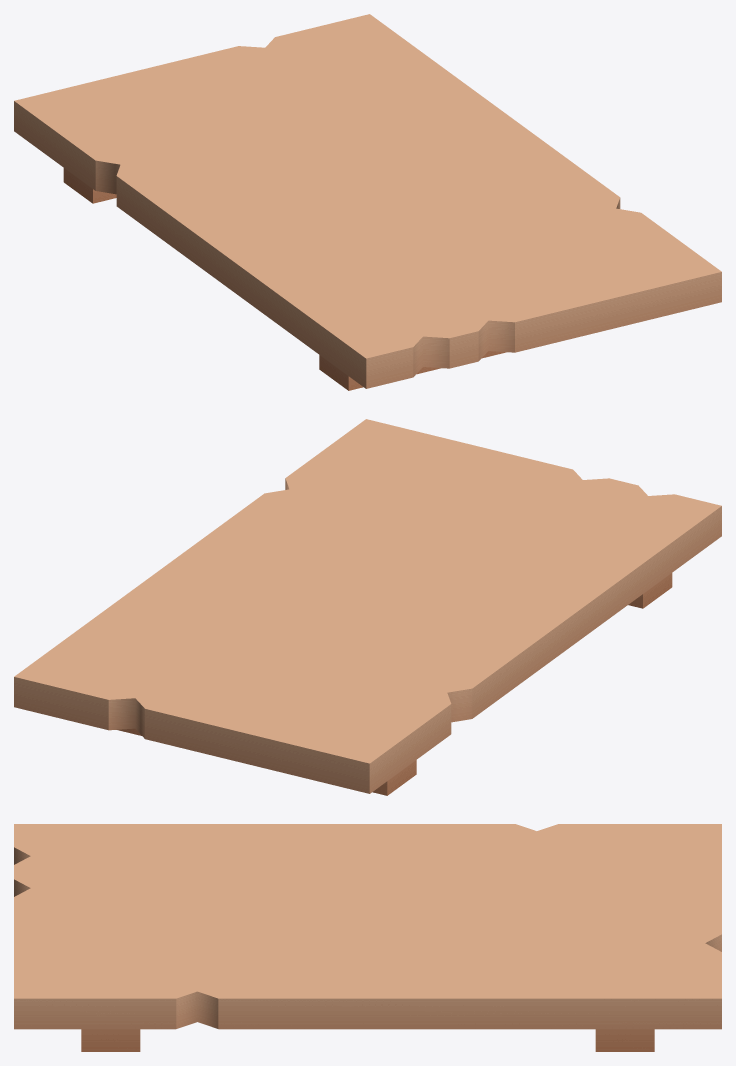
File: cutting-board-japanese.glb
3 views of the same model, one above another, from view 1: azimuth 30°, elevation 25°; view 2: azimuth 150°, elevation 25°; view 3: azimuth 270°, elevation 25° (orthographic).
Visible parts, largest first — view 1: cutting-board-japanese; view 2: cutting-board-japanese; view 3: cutting-board-japanese.
Boxes of the visible parts, left/top/right/bottom form: cutting-board-japanese: left=14, top=14, right=721, bottom=390; cutting-board-japanese: left=14, top=419, right=721, bottom=795; cutting-board-japanese: left=14, top=824, right=721, bottom=1051.
Size of the model in its own units: 0.49 by 0.08 by 0.84.
1 material, 1 textured.
